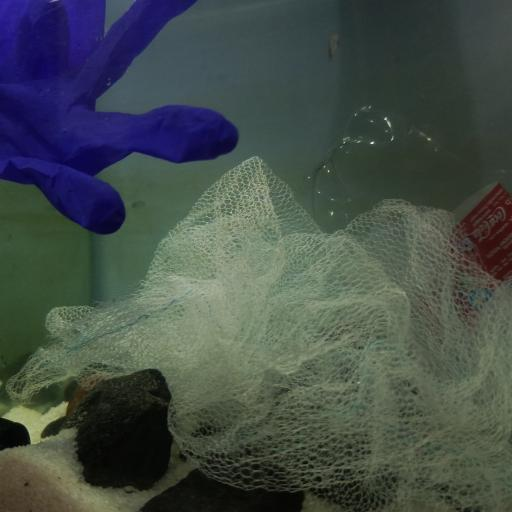glove: (0, 0, 242, 236)
net: (0, 155, 512, 512)
plastic_bottle: (300, 102, 512, 280)
